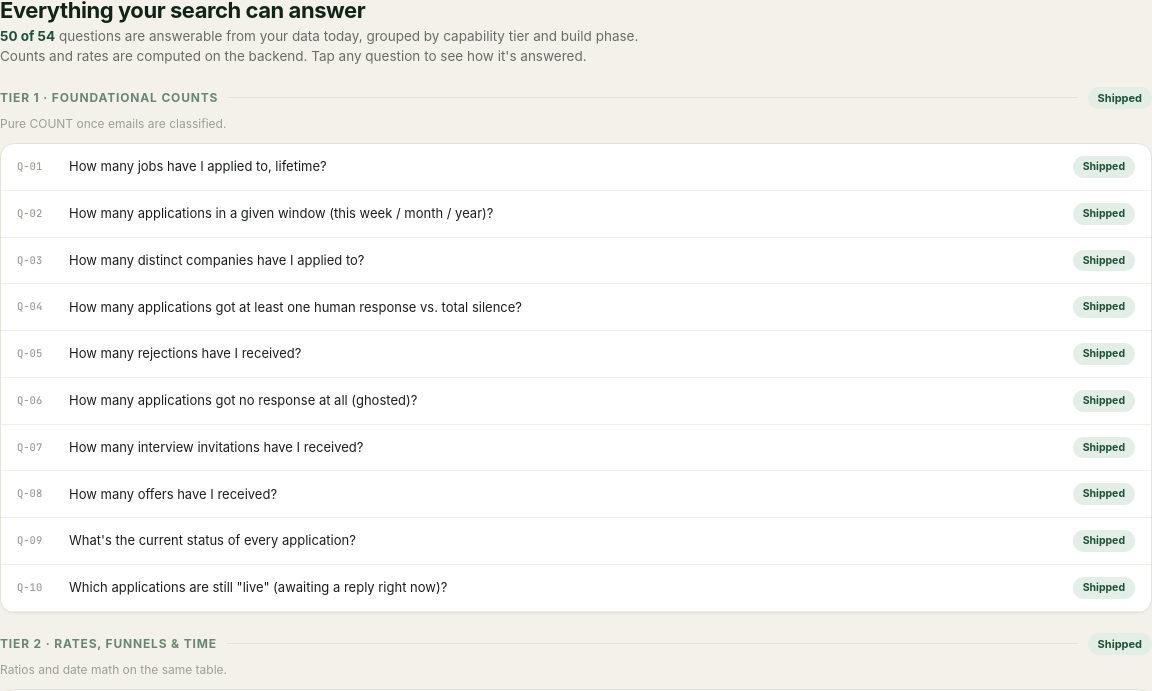
it: QuestionCatalogTab › expands a shipped row to show the real deterministic answer already loaded by OverviewPage, without a new fetch
Click the text "Q-01": coordinates (30, 166) top-left (17, 159), bottom-right (42, 173)
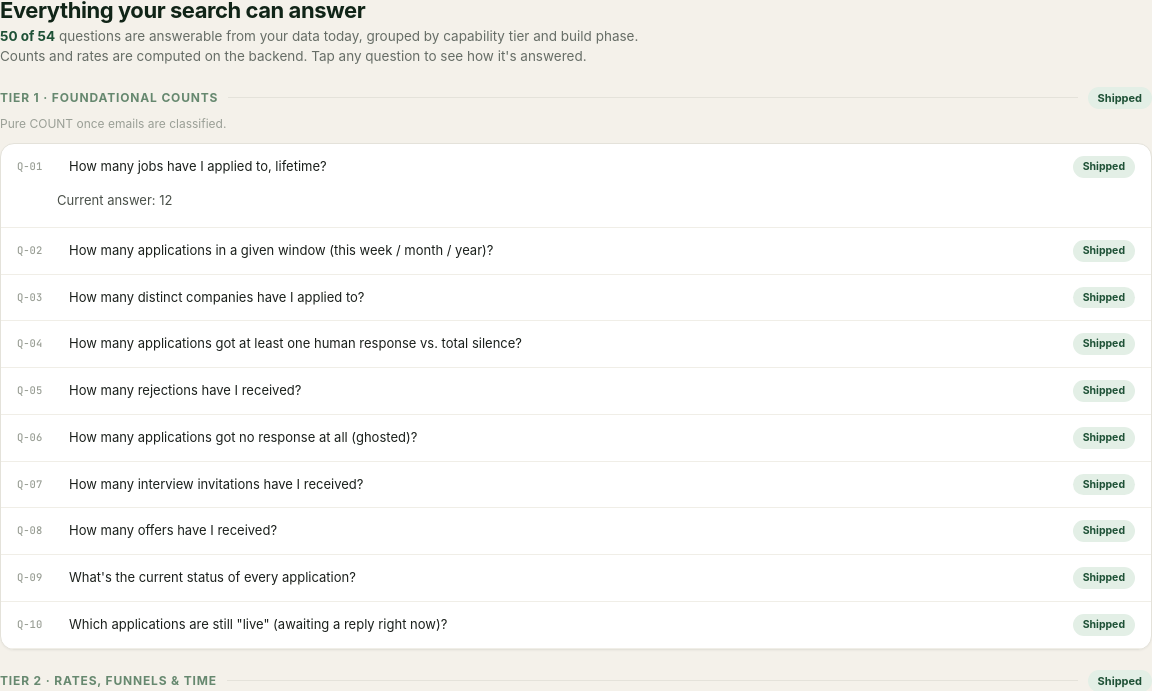
Expected: the text "Current answer: 12" is shown, top-left (57, 192), bottom-right (172, 208)
